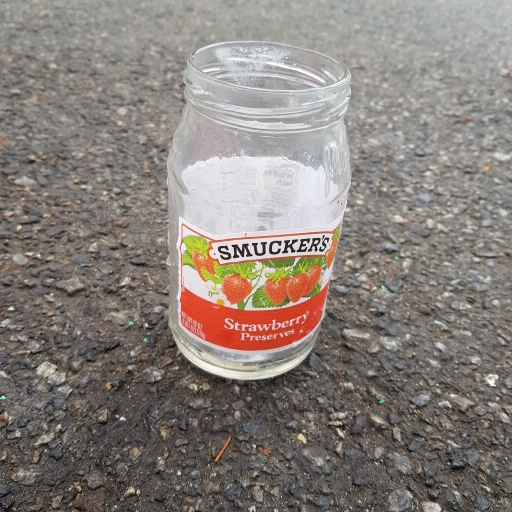Glass_5: (156, 35, 353, 392)
